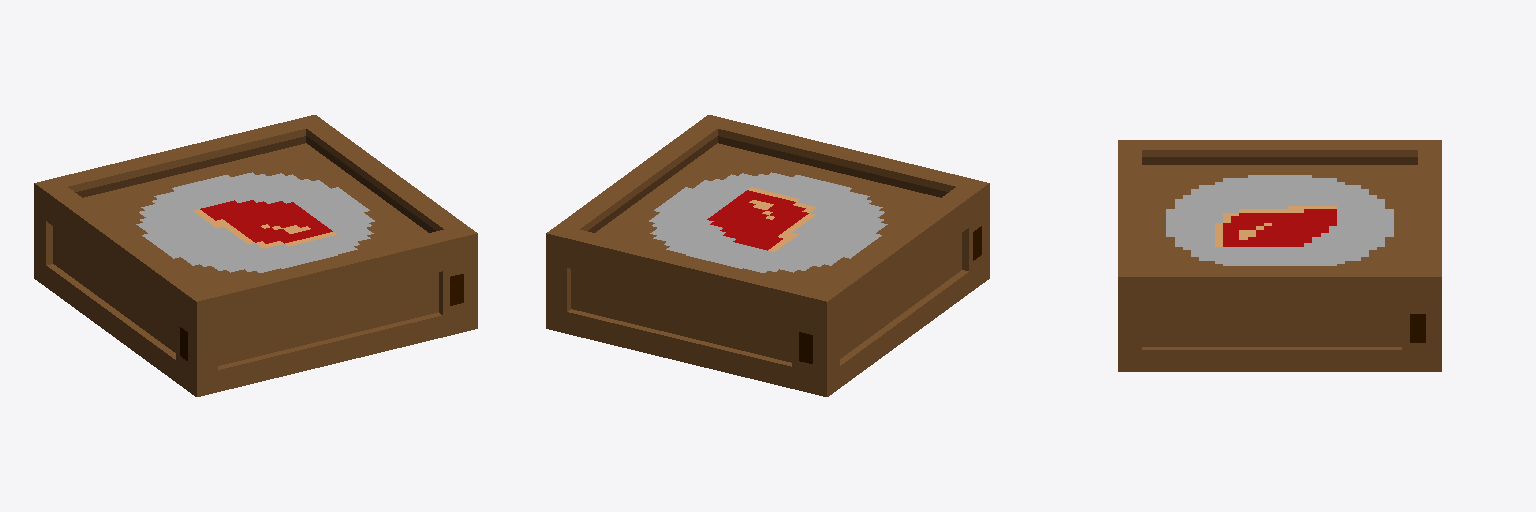
3 renders of one model, left to right at view 1: azimuth 30°, elevation 25°; view 2: azimuth 150°, elevation 25°; view 3: azimuth 270°, elevation 25°, orthographic.
Parts seen in each view (by area): view 1: object 1; view 2: object 1; view 3: object 1.
Boxes of the visible parts, <box> form: object 1: <box>34,115,477,396</box>; object 1: <box>546,115,989,396</box>; object 1: <box>1118,140,1441,371</box>.
Bounding box in the file's own units: 4 × 1.3 × 4.
1 materials, 1 textured.